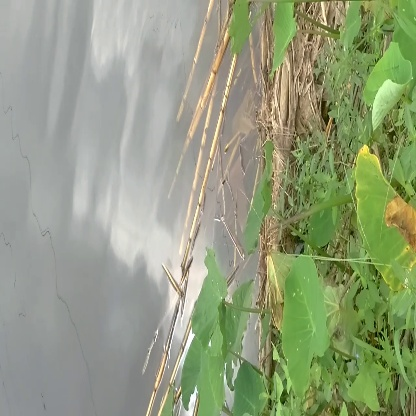branch: (173, 48, 245, 242)
